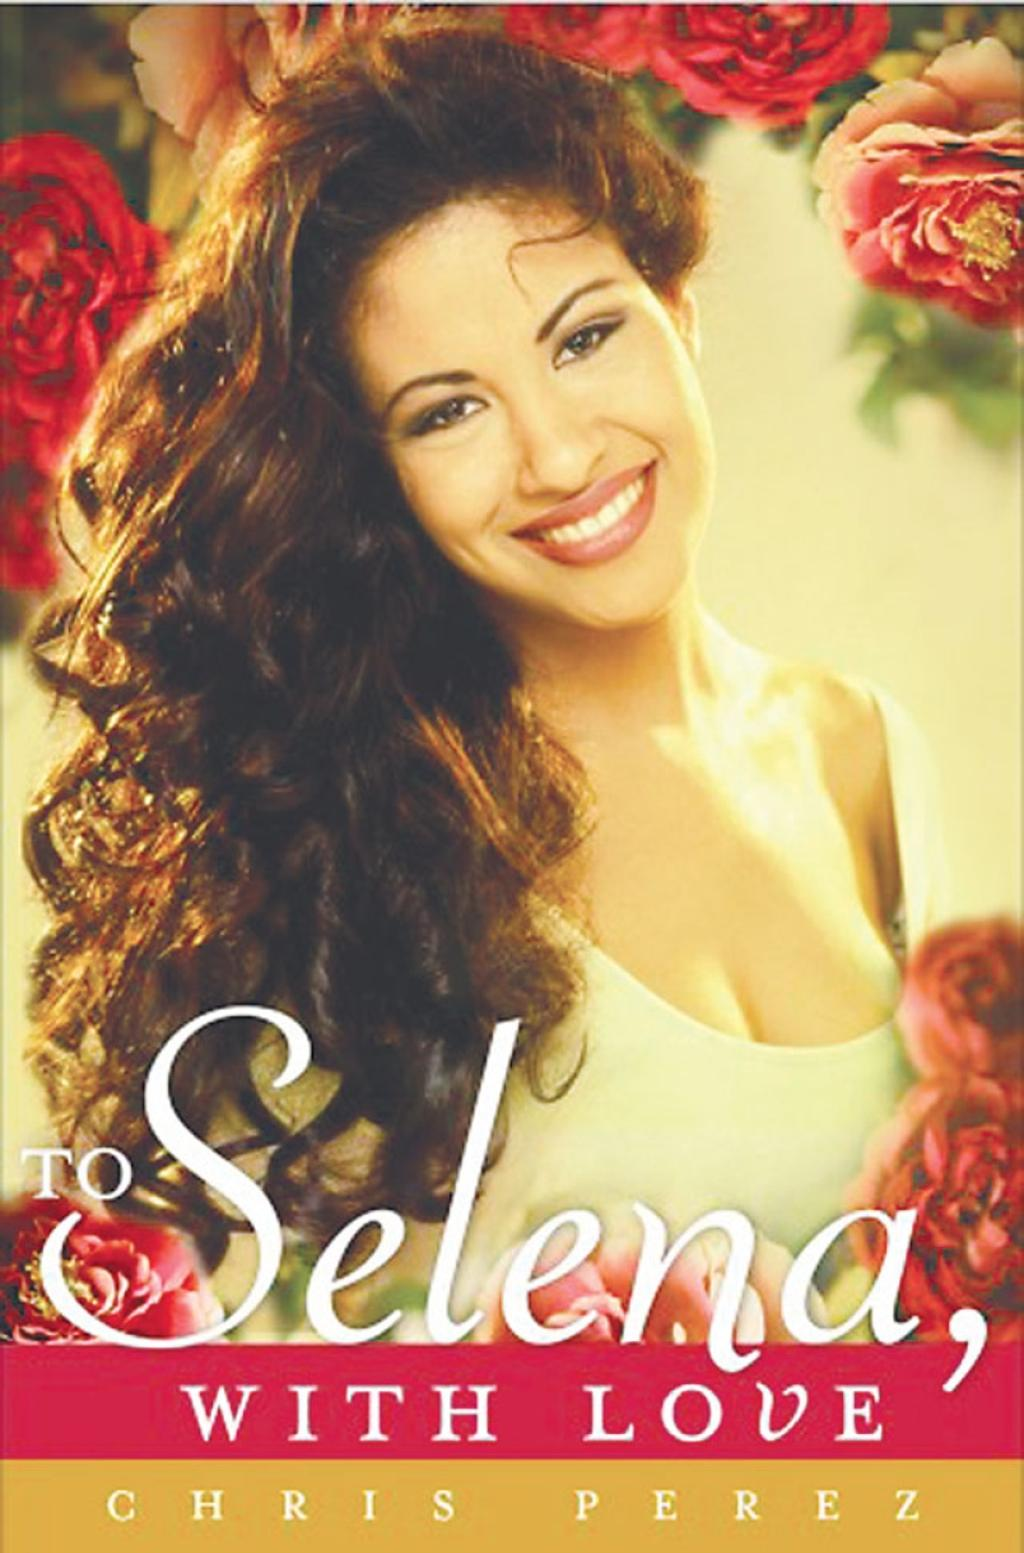face: (348, 185, 709, 621)
